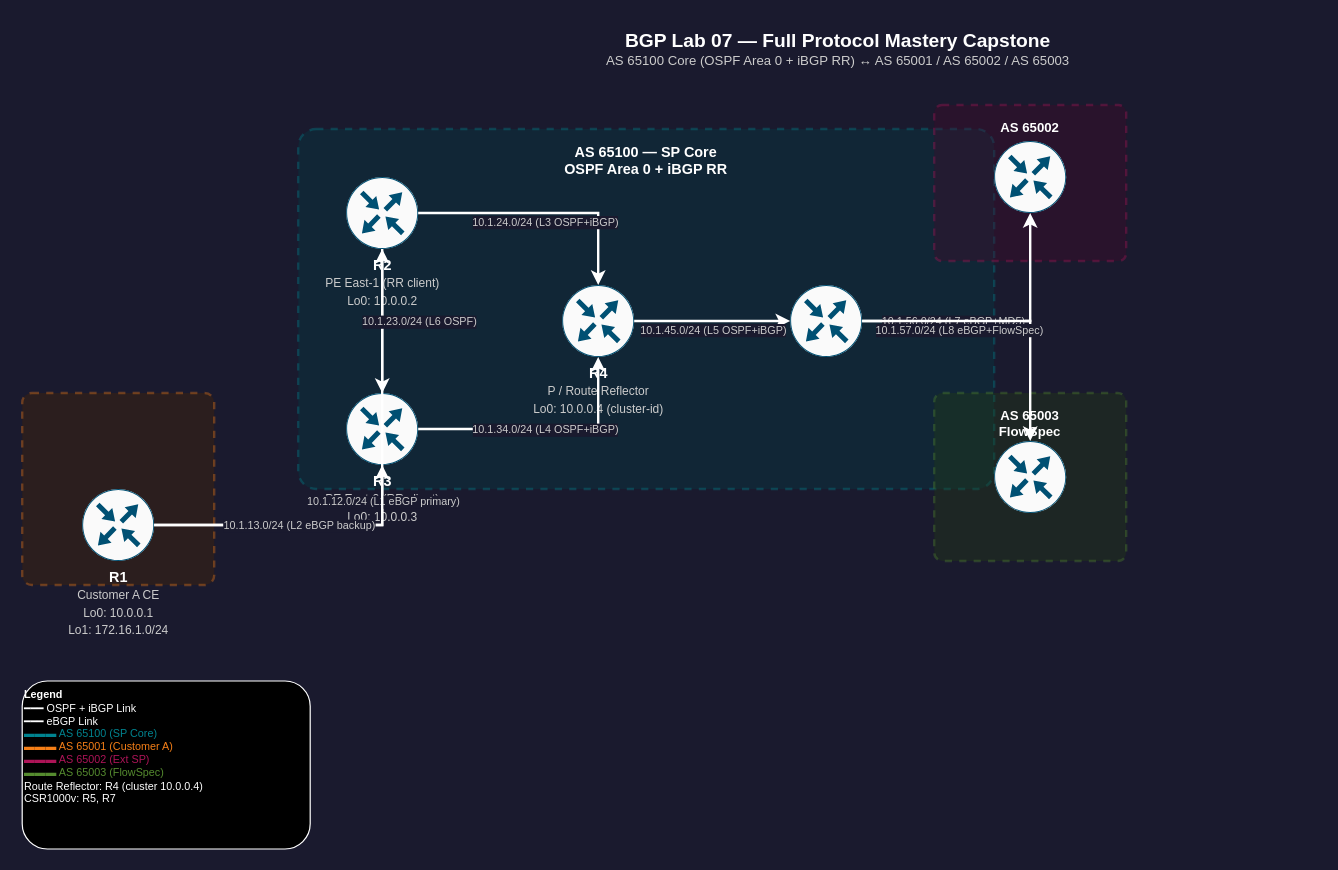
This 1338x870 diagram has some shape labels left out. Each missing label, with the box of its shape:
AS 65001: (20, 391, 215, 586)
R5 PE West (RR client) Lo0: 10.0.0.5 CSR1000v (FlowSpec): (789, 284, 862, 357)
R6 External SP Peer Lo0: 10.0.0.6 Lo1: 172.16.6.0/24: (993, 140, 1066, 213)
R7 External FlowSpec Peer Lo0: 10.0.0.7 Lo1: 172.16.7.0/24 CSR1000v: (993, 440, 1066, 513)
